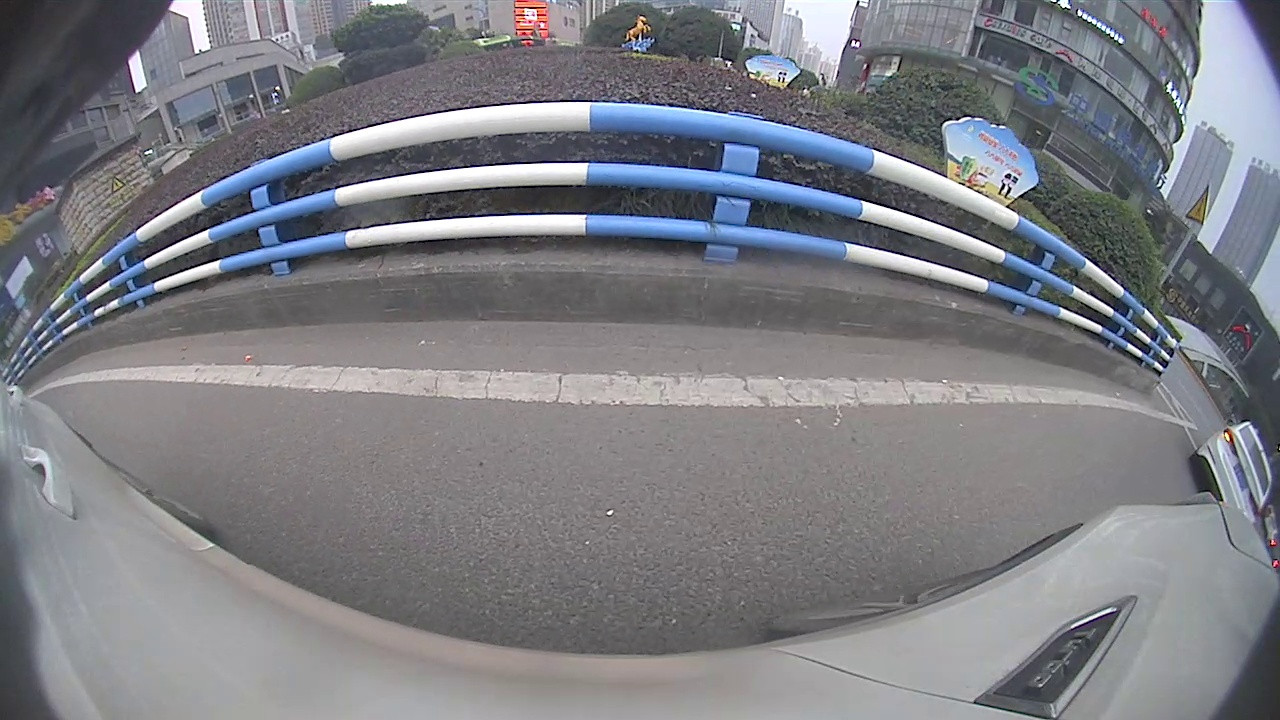car: (1188, 420, 1273, 526)
